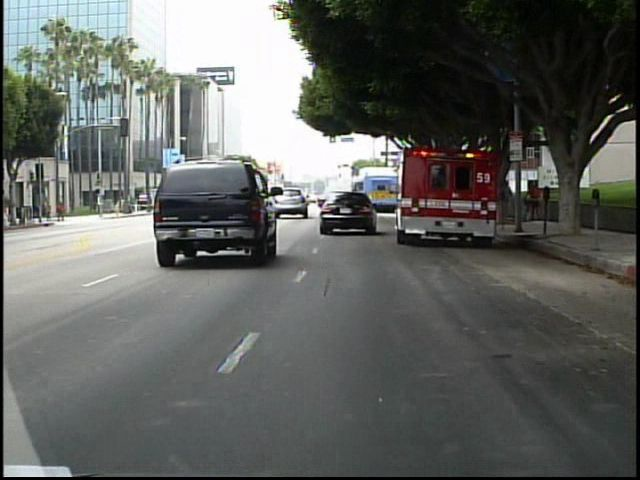person: (526, 179, 543, 225), (55, 198, 68, 223), (44, 200, 56, 224)
